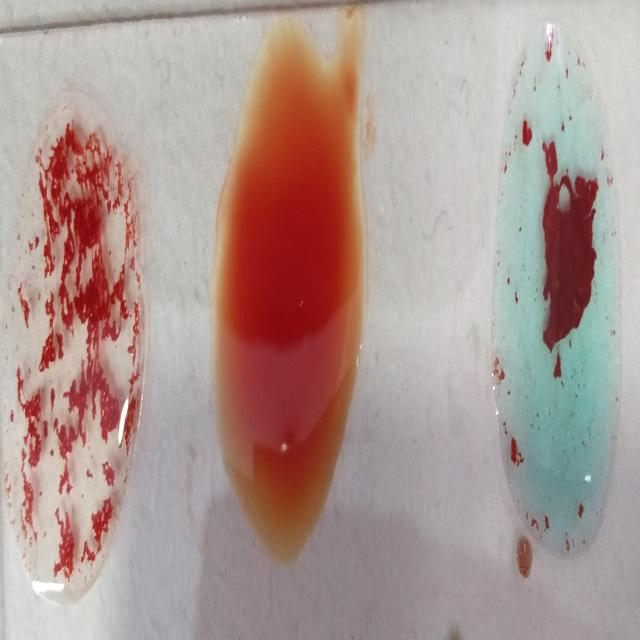A: (492, 39, 622, 568)
D: (10, 109, 141, 599)
